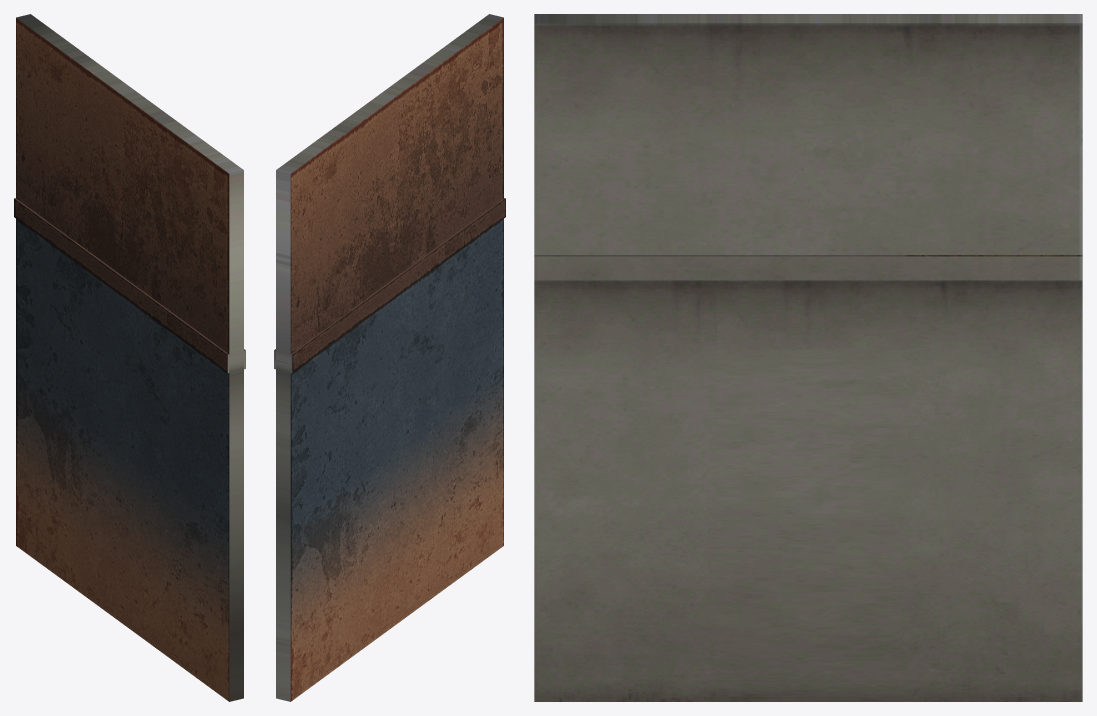
Rendered from Wall_Medium3.fbx.
3 views of the same model, side by side, from view 1: azimuth 30°, elevation 25°; view 2: azimuth 150°, elevation 25°; view 3: azimuth 270°, elevation 25° (orthographic). The views are drawn at different scales.
Parts seen in each view (by area): view 1: Door_Wall.001; view 2: Door_Wall.001; view 3: Door_Wall.001.
Boxes of the visible parts, x1,y1,x2,y2 form: Door_Wall.001: (14, 14, 245, 701); Door_Wall.001: (274, 14, 505, 701); Door_Wall.001: (534, 14, 1082, 701).
Size of the model in its own units: 0.2954 by 8.13 by 5.96.
